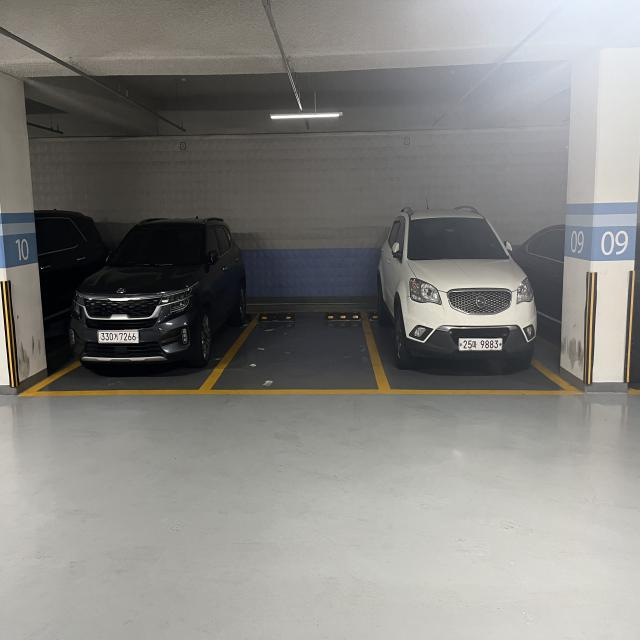empty: (199, 311, 385, 394)
occupied: (356, 208, 551, 406), (68, 222, 228, 397)
